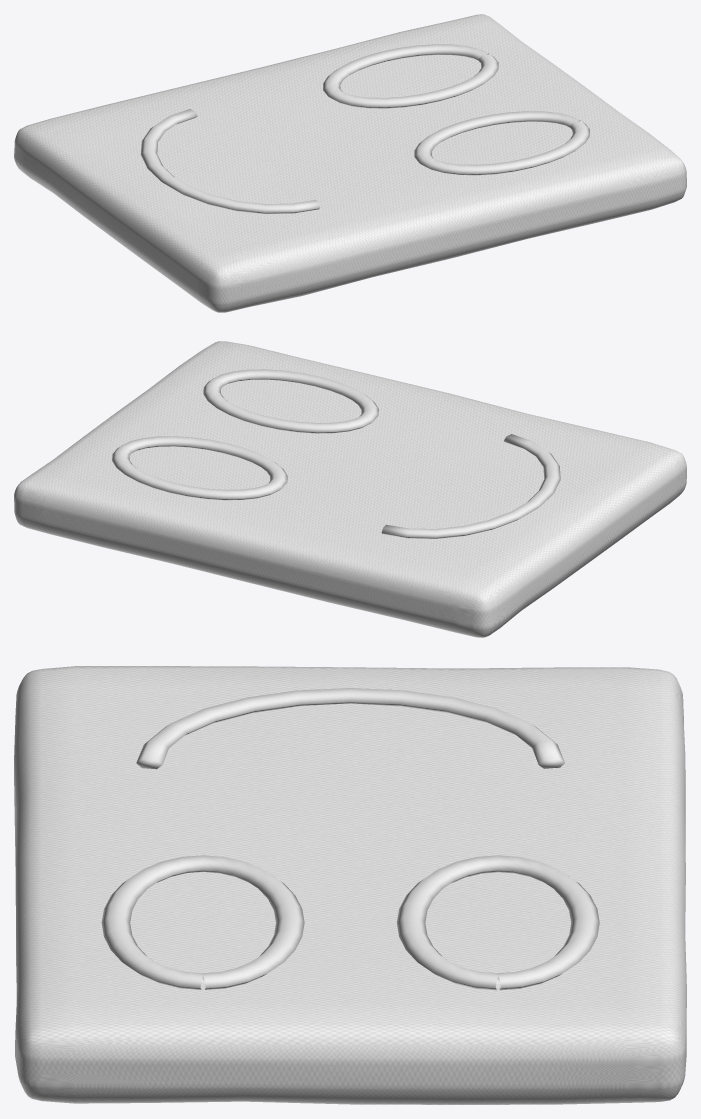
Rendered from swimsuit.glb.
3 views of the same model, one above another, from view 1: azimuth 30°, elevation 25°; view 2: azimuth 150°, elevation 25°; view 3: azimuth 270°, elevation 25° (orthographic). The views are drawn at different scales.
Parts seen in each view (by area): view 1: swim_body, swim_strap1, swim_strap-1, swim_leg; view 2: swim_body, swim_strap1, swim_strap-1, swim_leg; view 3: swim_body, swim_strap1, swim_strap-1, swim_leg.
Part boxes in pixels (bbox=[...]): swim_body: bbox=[14, 14, 686, 312]; swim_strap1: bbox=[323, 44, 498, 108]; swim_strap-1: bbox=[414, 111, 589, 175]; swim_leg: bbox=[140, 109, 319, 213]; swim_body: bbox=[14, 341, 686, 637]; swim_strap1: bbox=[112, 436, 287, 500]; swim_strap-1: bbox=[203, 369, 378, 433]; swim_leg: bbox=[381, 434, 560, 538]; swim_body: bbox=[14, 666, 686, 1104]; swim_strap1: bbox=[396, 855, 599, 990]; swim_strap-1: bbox=[101, 855, 304, 989]; swim_leg: bbox=[136, 688, 564, 769].
Bounding box in the file's own units: 20.05 × 2.32 × 15.05.
1 material, 1 textured.
